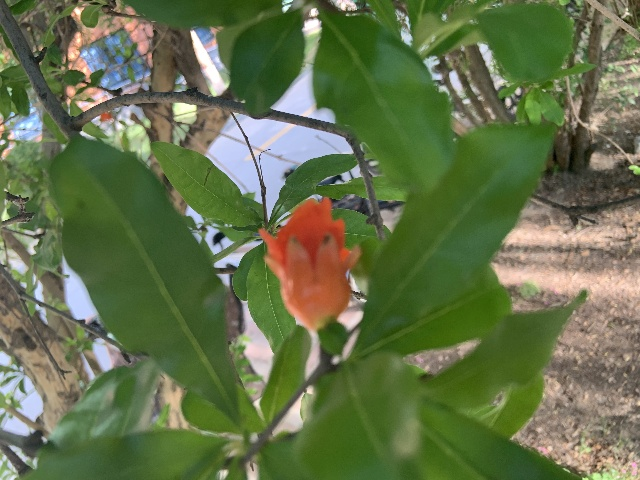flower: (258, 196, 359, 333), (100, 112, 111, 122)
